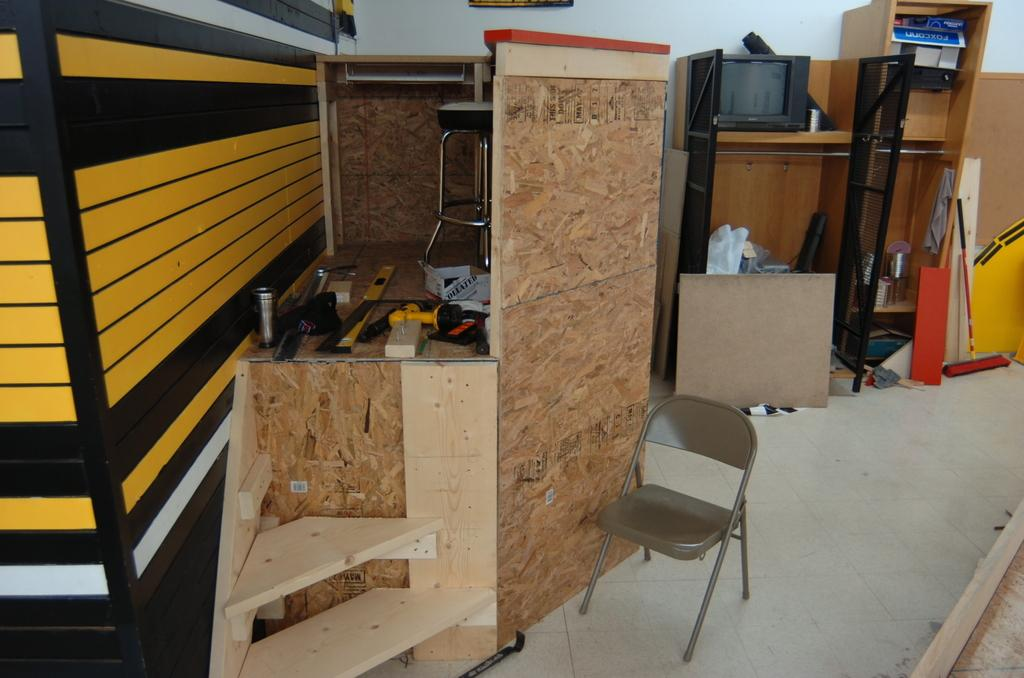Chair: (590, 378, 769, 659)
